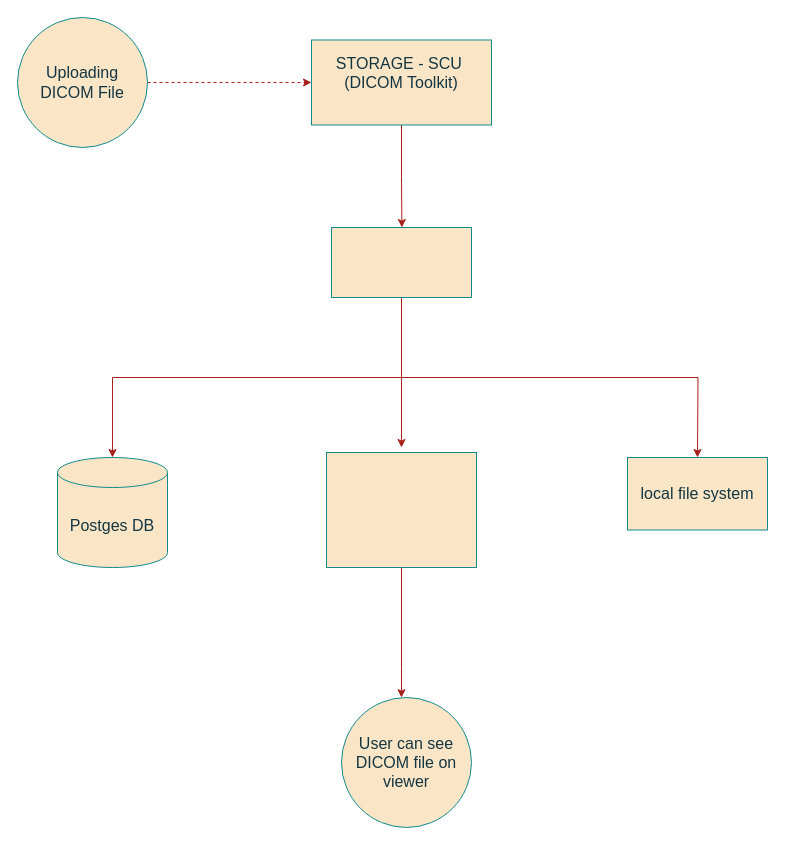
The diagram is 785 pixels wide and 845 high, and some of its shapes have lost their labels. Each missing label, with the box of its shape:
DCM4CHEE-ARC-UI running on docker: (326, 452, 476, 568)
PACS Server (DCM4CHEE): (330, 226, 472, 298)
